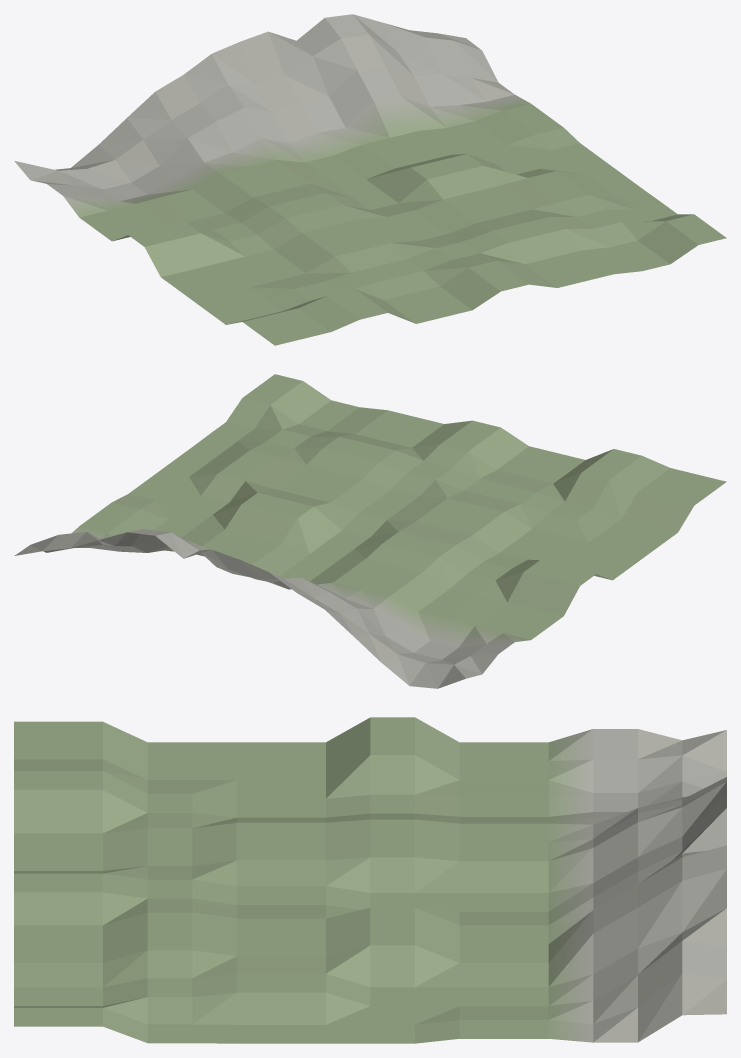
The picture shows the model from 3 angles, top to bottom: view 1: azimuth 30°, elevation 25°; view 2: azimuth 150°, elevation 25°; view 3: azimuth 270°, elevation 25°; orthographic projection. The views are drawn at different scales.
Size of the model in its own units: 32 by 5.97 by 32.
